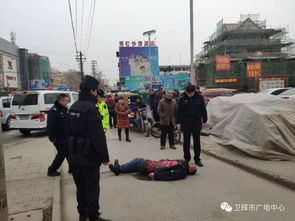10+: (40, 77, 209, 217)
down: (101, 155, 199, 181)
